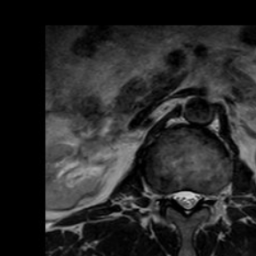CCS_normal: (181, 177, 191, 222)
LFS_stenosis: (201, 180, 211, 209)
LLS_stenosis: (191, 180, 201, 214)
RFS_stenosis: (160, 179, 171, 211)
RLS_normal: (171, 180, 181, 211)
